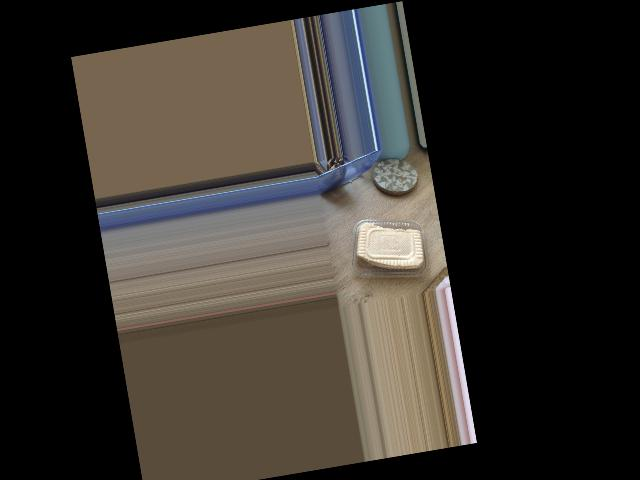cheese: (351, 204, 444, 303)
